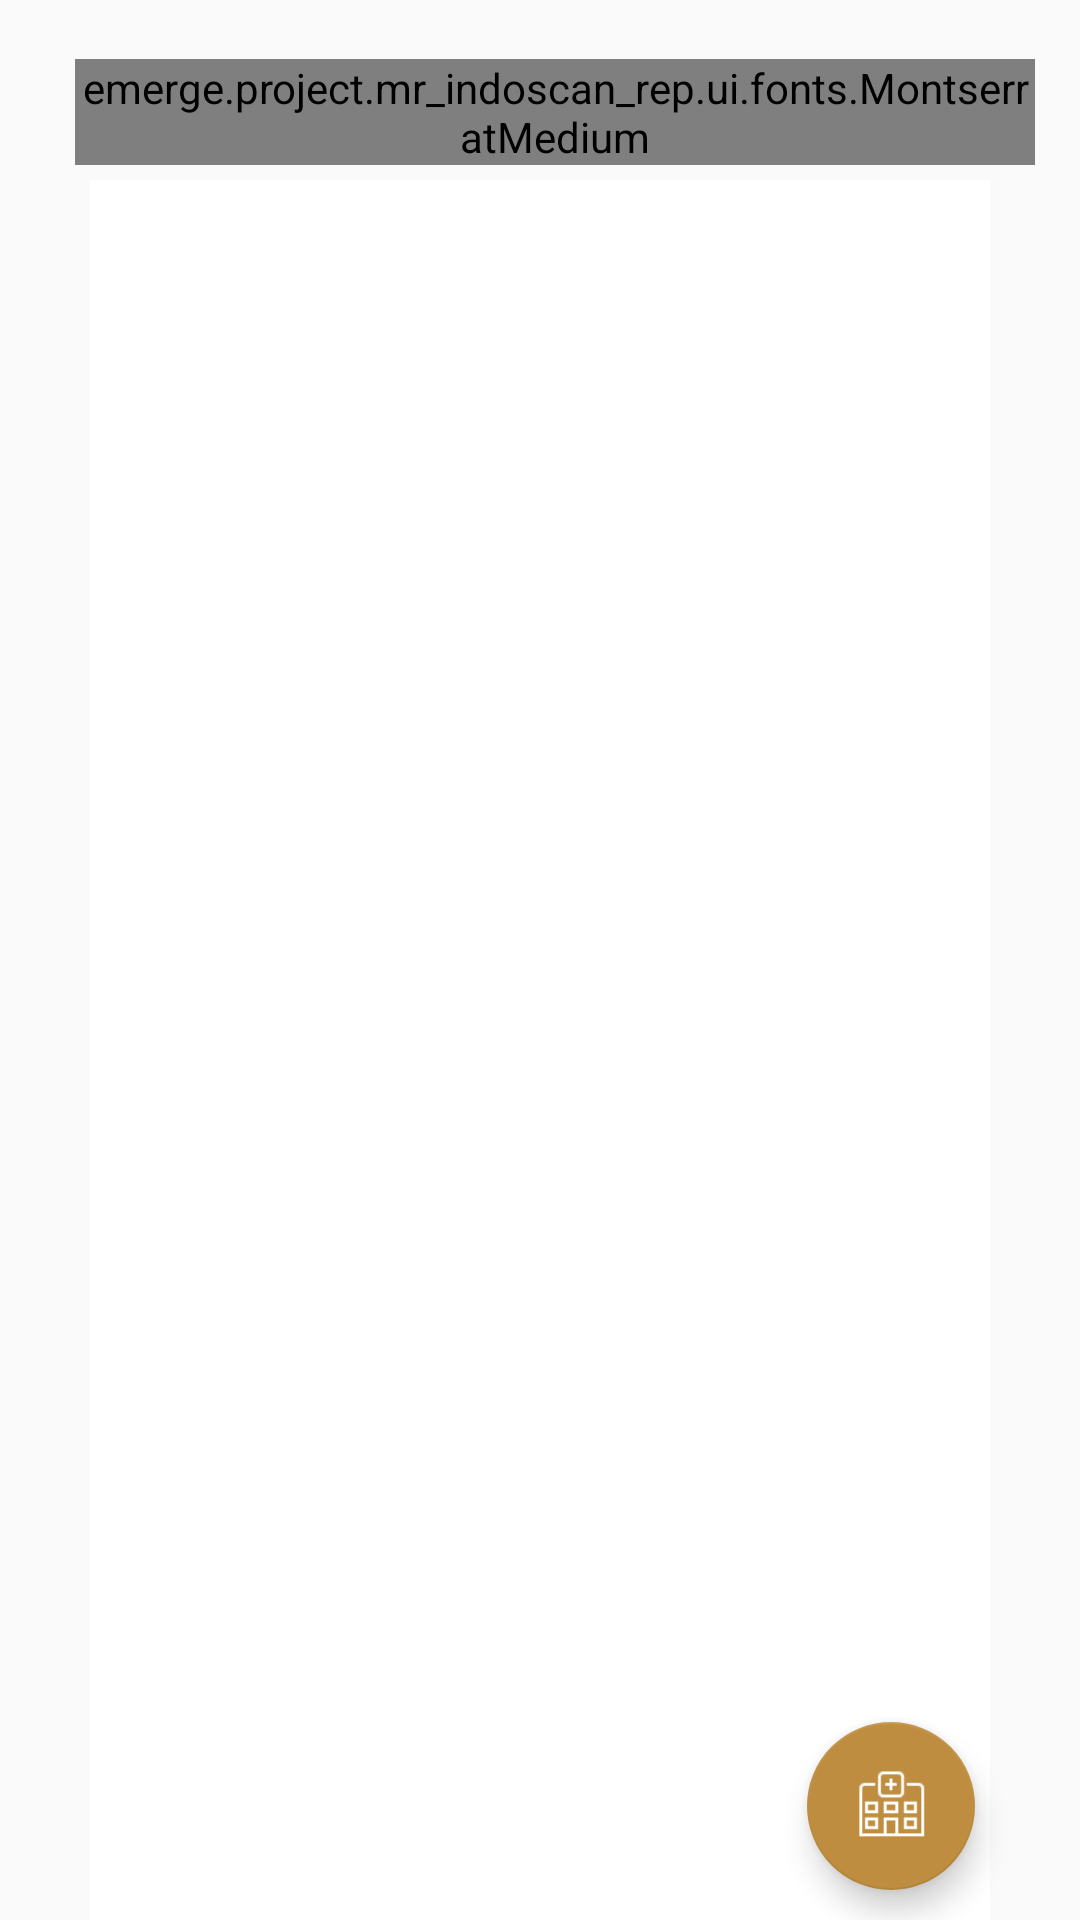

Screen size 1080 × 1920. Icon name, then its center in pixels as [x,y]:
hospital: [891,1806]
